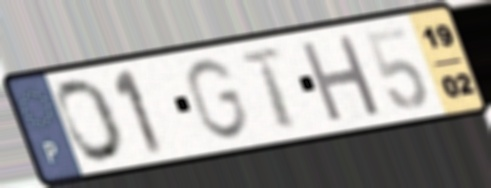1: (110, 66, 168, 158)
5: (360, 23, 430, 112)
G: (182, 55, 253, 142)
H: (296, 30, 385, 126)
O: (55, 75, 127, 165)
T: (236, 45, 301, 132)
